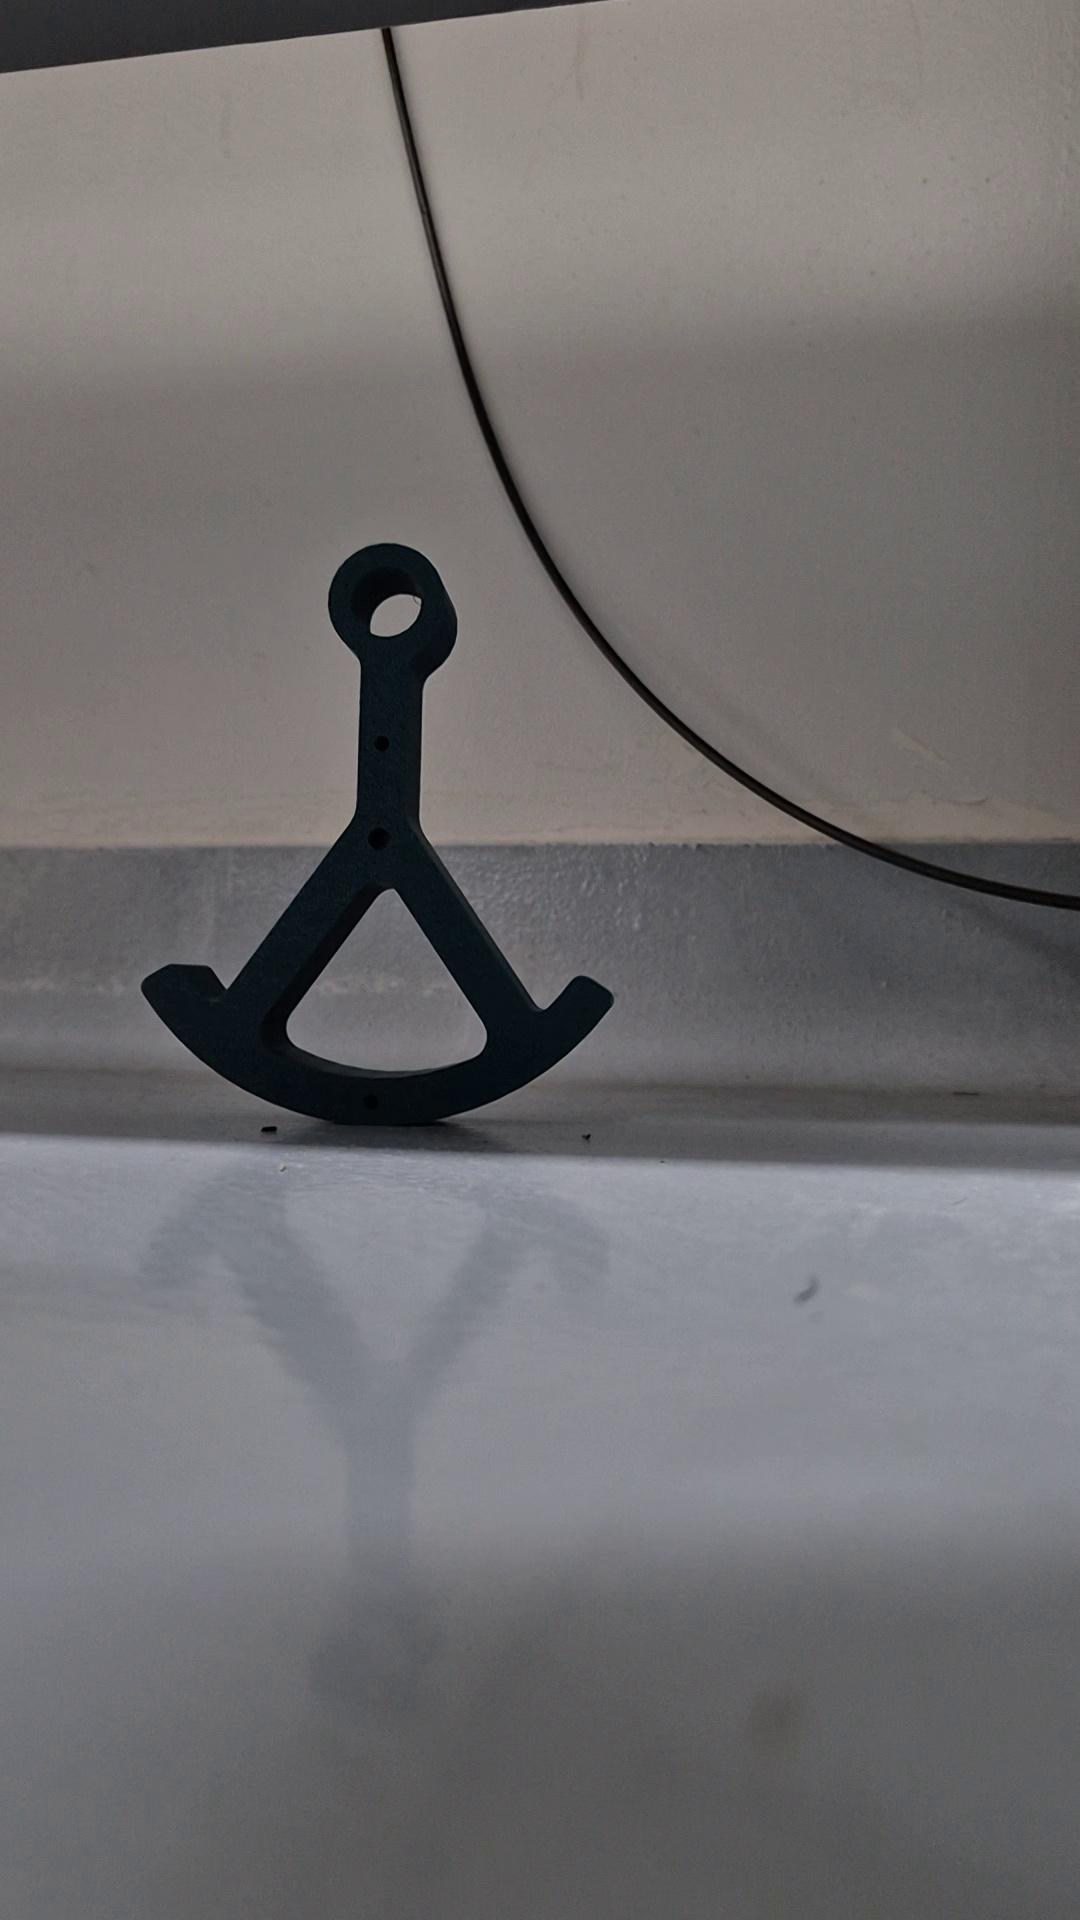Paddles: (136, 539, 618, 1129)
